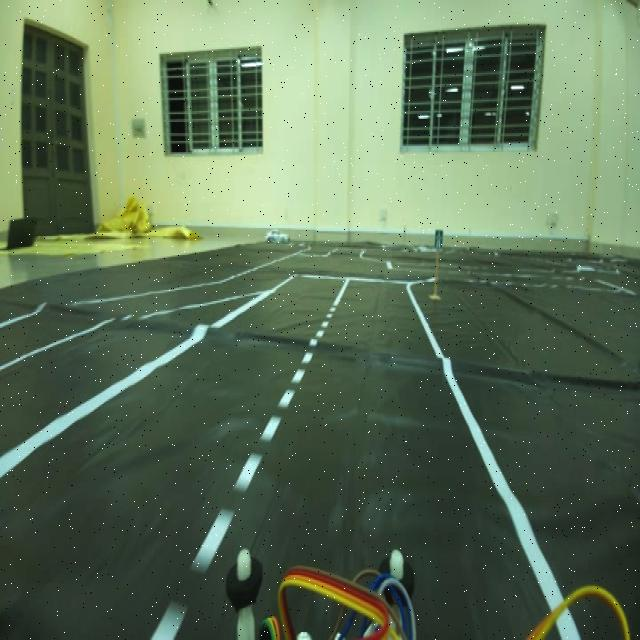highway_entry: (434, 224, 446, 254)
